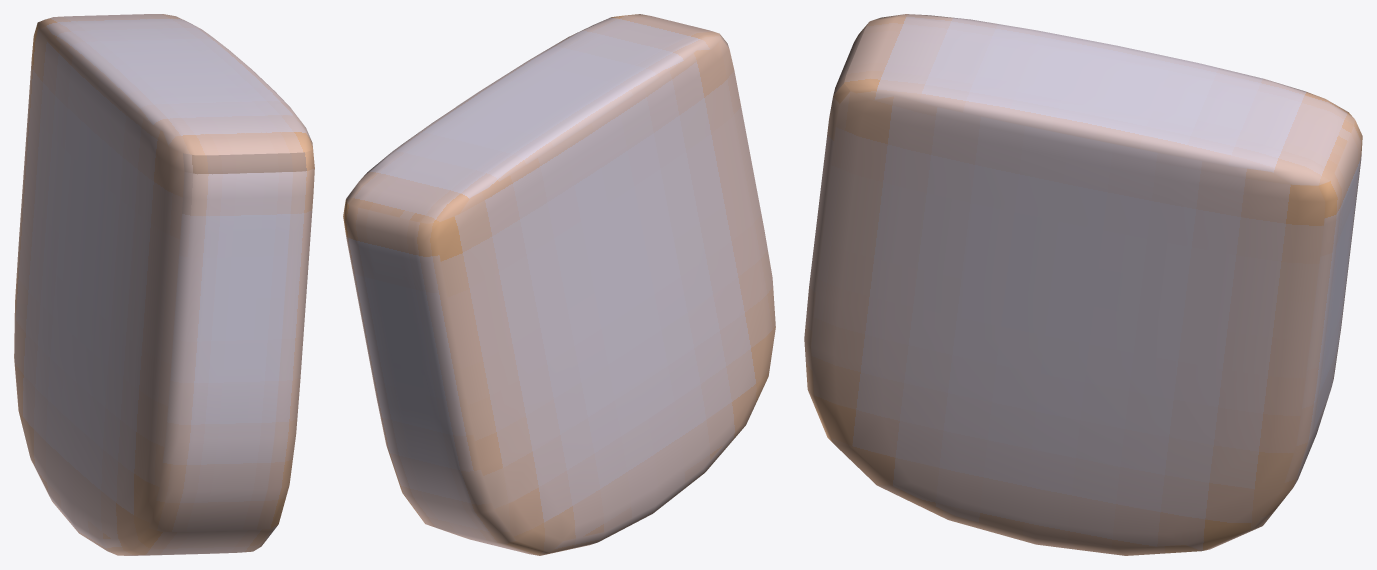
The picture shows the model from 3 angles, left to right: view 1: azimuth 30°, elevation 25°; view 2: azimuth 150°, elevation 25°; view 3: azimuth 270°, elevation 25°; orthographic projection. The views are drawn at different scales.
Parts seen in each view (by area): view 1: Cube.039; view 2: Cube.039; view 3: Cube.039.
Part boxes in pixels (box(x1,y1,x2,y2)): Cube.039: box(14, 14, 314, 555); Cube.039: box(343, 14, 775, 555); Cube.039: box(804, 14, 1362, 555).
Size of the model in its own units: 0.1309 by 0.2434 by 0.2522.
1 material, 1 textured.
